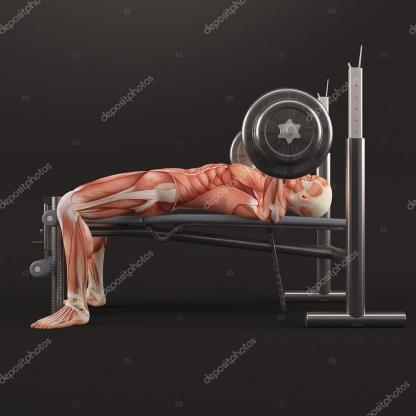barbell: (233, 90, 334, 179)
